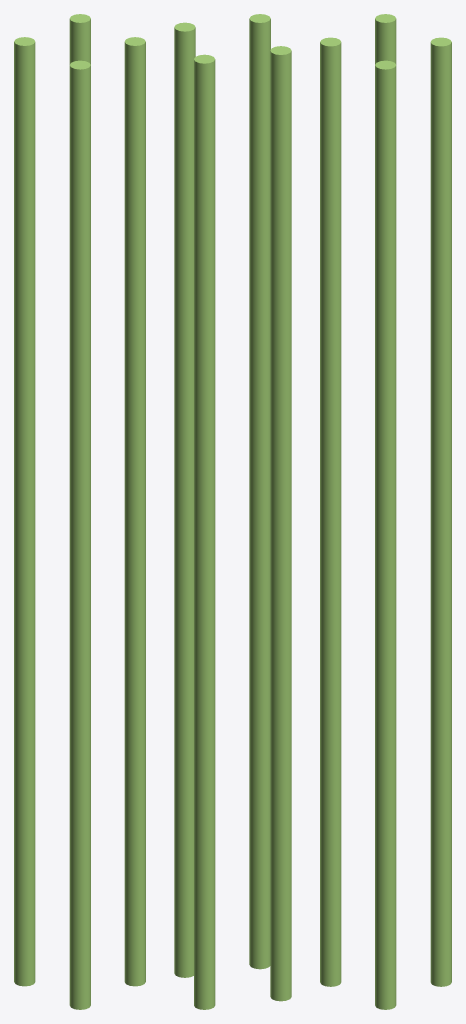
File: Pillar_02_x4_Lod0.fbx
3 views of the same model, side by side, from view 1: azimuth 90°, elevation 25°; view 2: azimuth 150°, elevation 25°; view 3: azimuth 270°, elevation 25° (orthographic).
Visible parts, largest first — view 1: Pillar_02_x4_Lod0; view 2: Pillar_02_x4_Lod0; view 3: Pillar_02_x4_Lod0.
Part boxes in pixels (bbox=[...]): Pillar_02_x4_Lod0: bbox=[14, 14, 145, 1009]; Pillar_02_x4_Lod0: bbox=[174, 14, 291, 1009]; Pillar_02_x4_Lod0: bbox=[320, 14, 451, 1009].
Size of the model in its own units: 146 by 1151 by 146.
